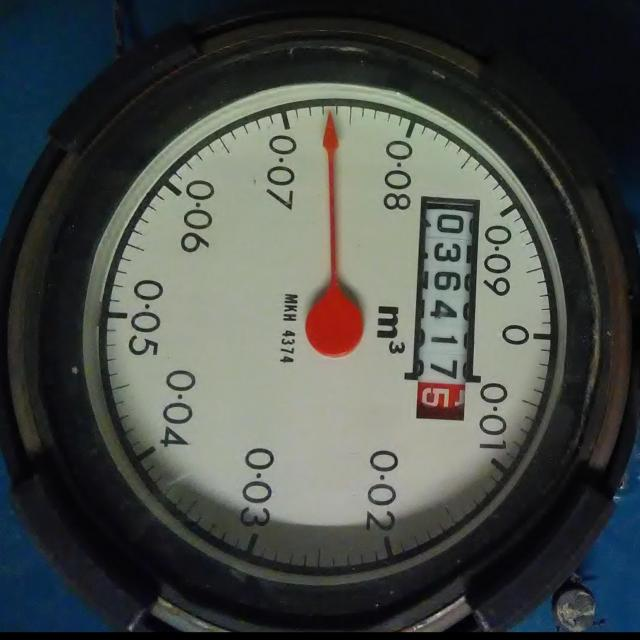gaz_meter: (84, 82, 584, 594)
indication: (417, 205, 477, 420)
